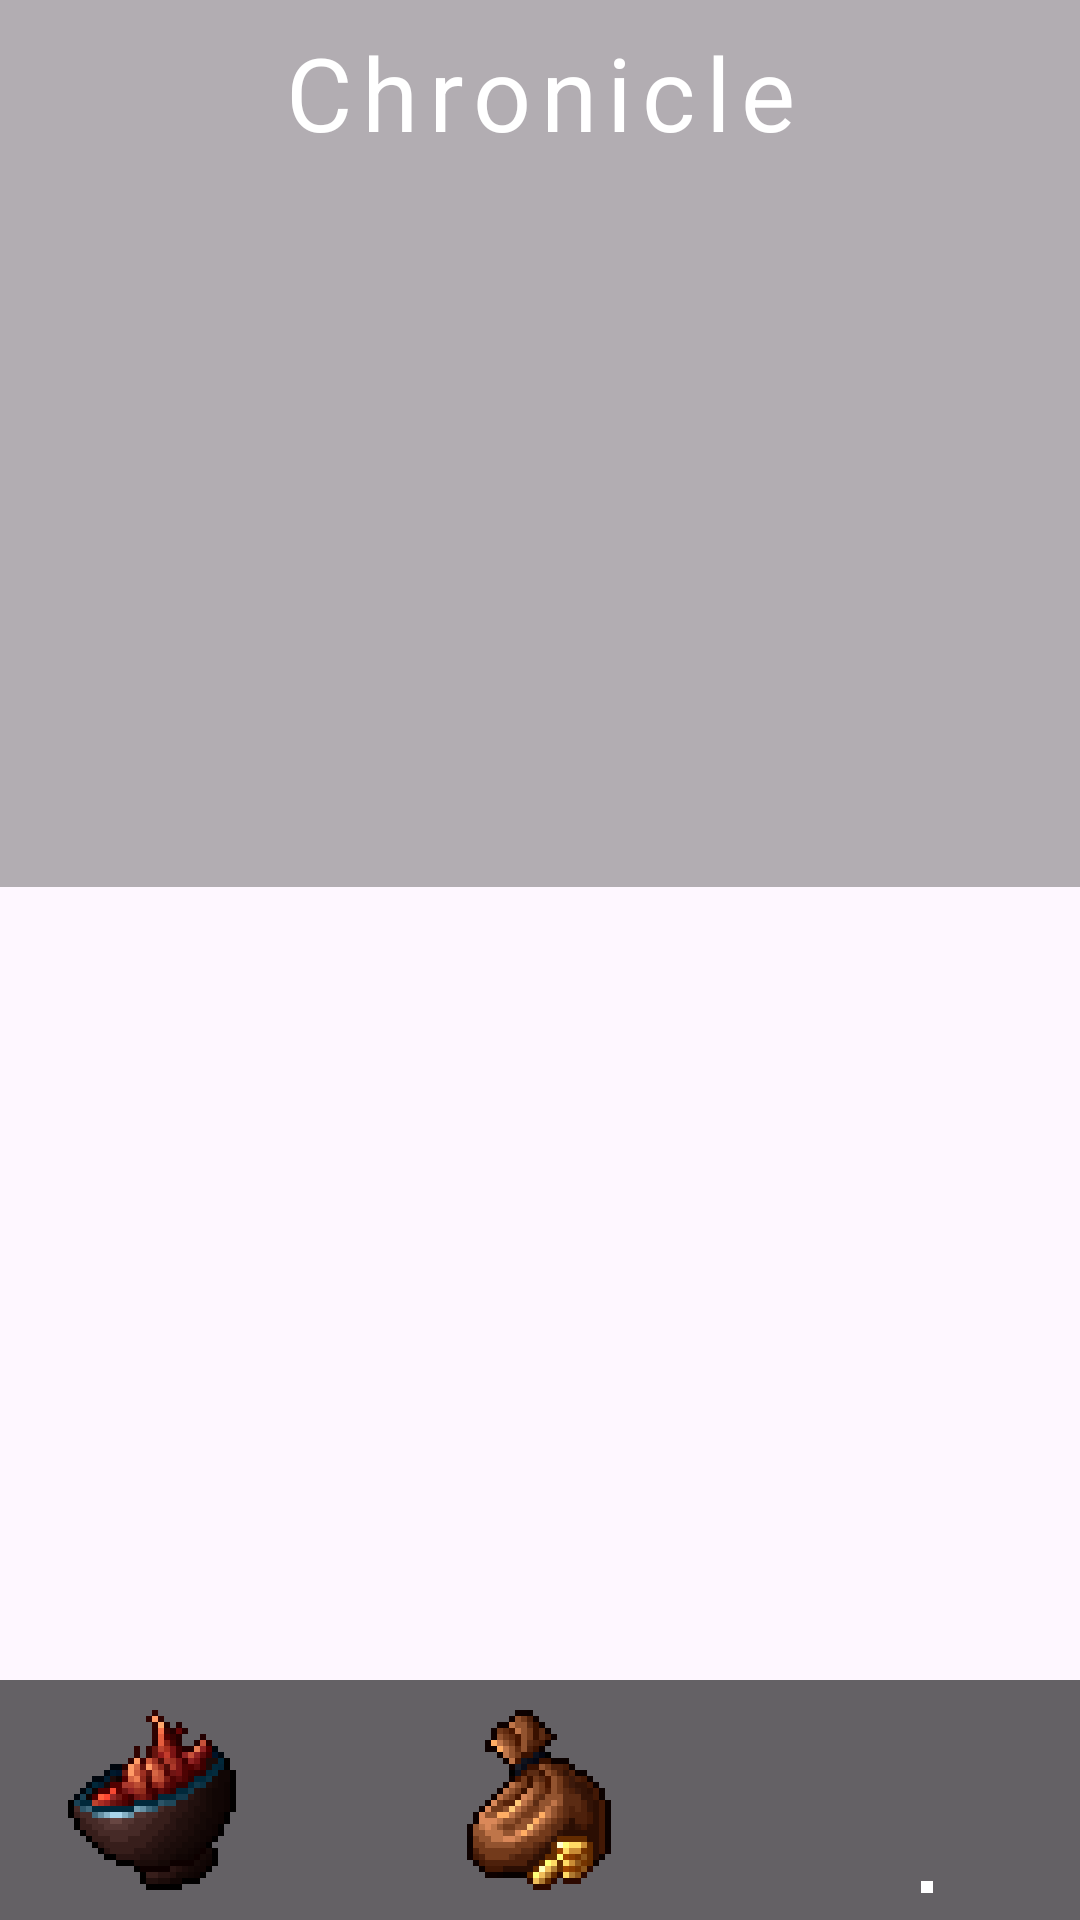

Icon click points for this 1080px×1920px phone screenshot, format point (x, y):
market: point (539, 1800)
